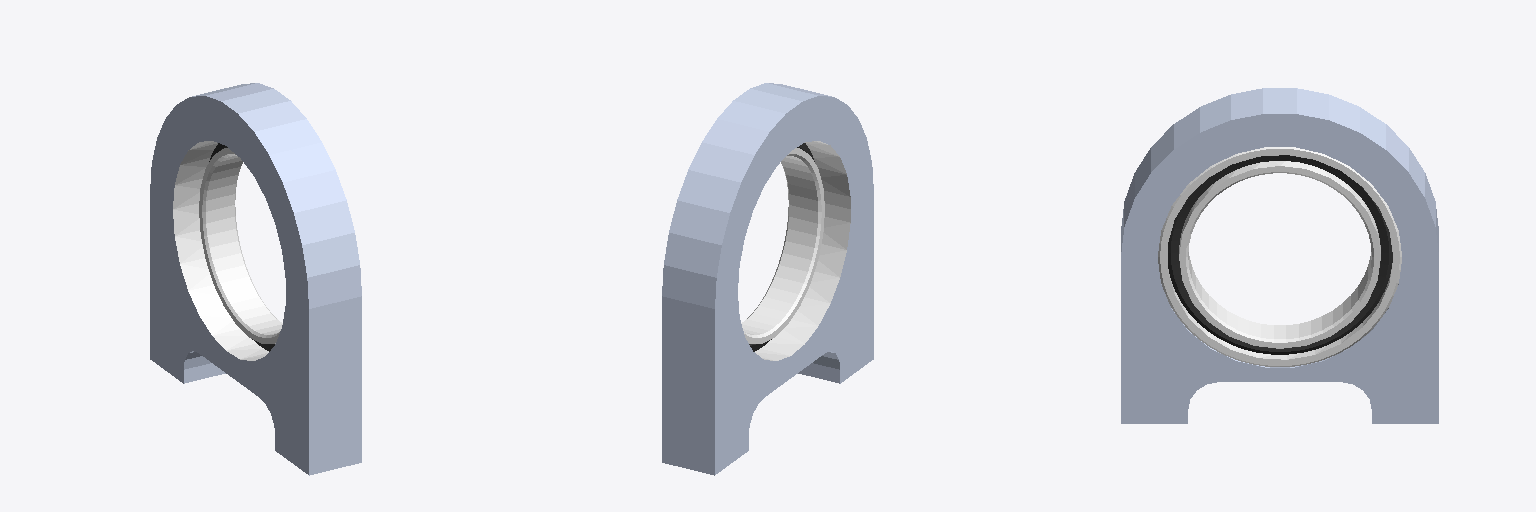
File: ROB-12110.obj
3 views of the same model, side by side, from view 1: azimuth 30°, elevation 25°; view 2: azimuth 150°, elevation 25°; view 3: azimuth 270°, elevation 25° (orthographic).
Visible parts, largest first — view 1: mesh 3 InnerRace, mesh 2 BallsSimplified; view 2: mesh 3 InnerRace, mesh 2 BallsSimplified; view 3: mesh 3 InnerRace, mesh 2 BallsSimplified, mesh 1 RO.
Part boxes in pixels (x1,y1,x2,y2): mesh 3 InnerRace: (150, 83, 361, 475); mesh 2 BallsSimplified: (173, 141, 282, 360); mesh 3 InnerRace: (662, 83, 873, 475); mesh 2 BallsSimplified: (741, 141, 850, 360); mesh 3 InnerRace: (1121, 88, 1438, 423); mesh 2 BallsSimplified: (1158, 147, 1401, 366); mesh 1 RO: (1168, 155, 1392, 354).
Bounding box in the file's own units: 0.0063 × 0.0355 × 0.033.